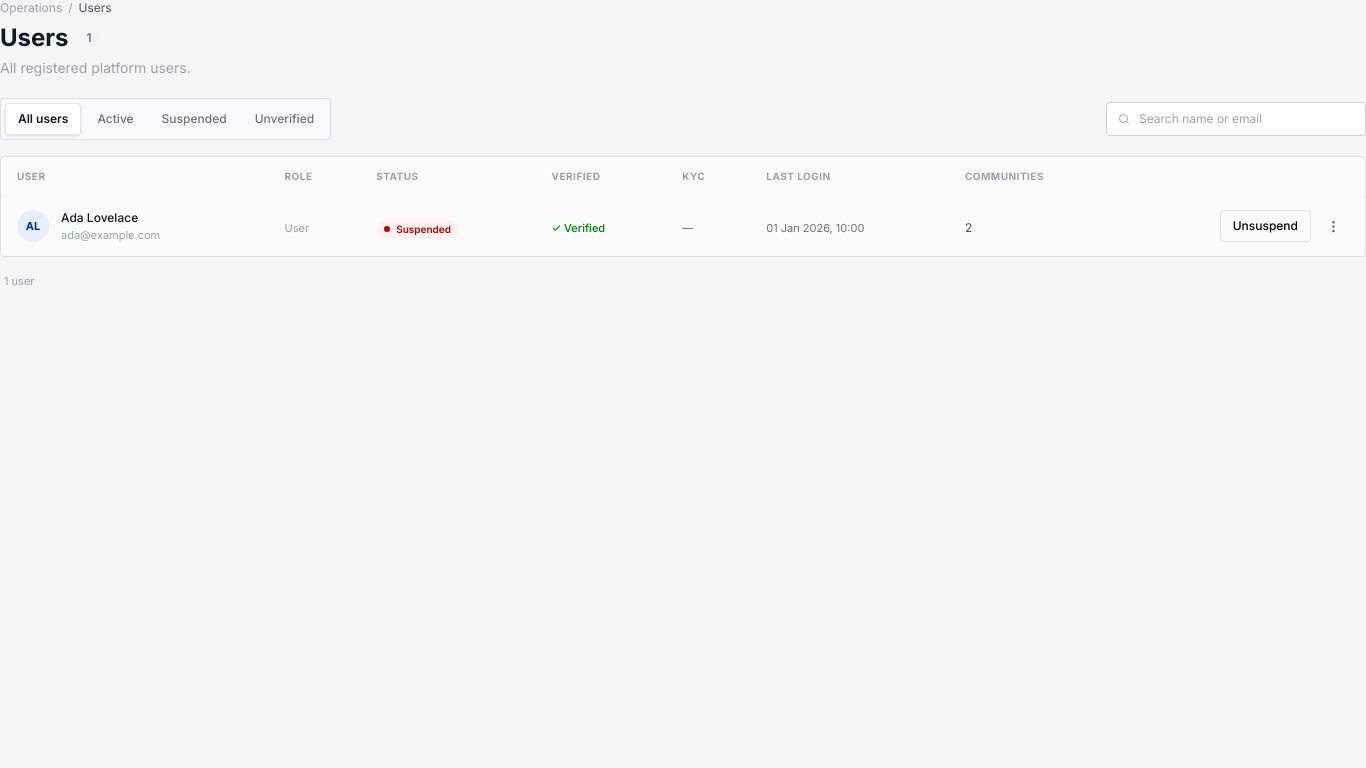
Test case: UsersSection — unsuspend / delete / anonymize › unsuspends a suspended user and closes the confirm modal
The image size is (1366, 768).
Step 1. Click the button "Unsuspend" → (1265, 226), box [1220,210,1311,242]
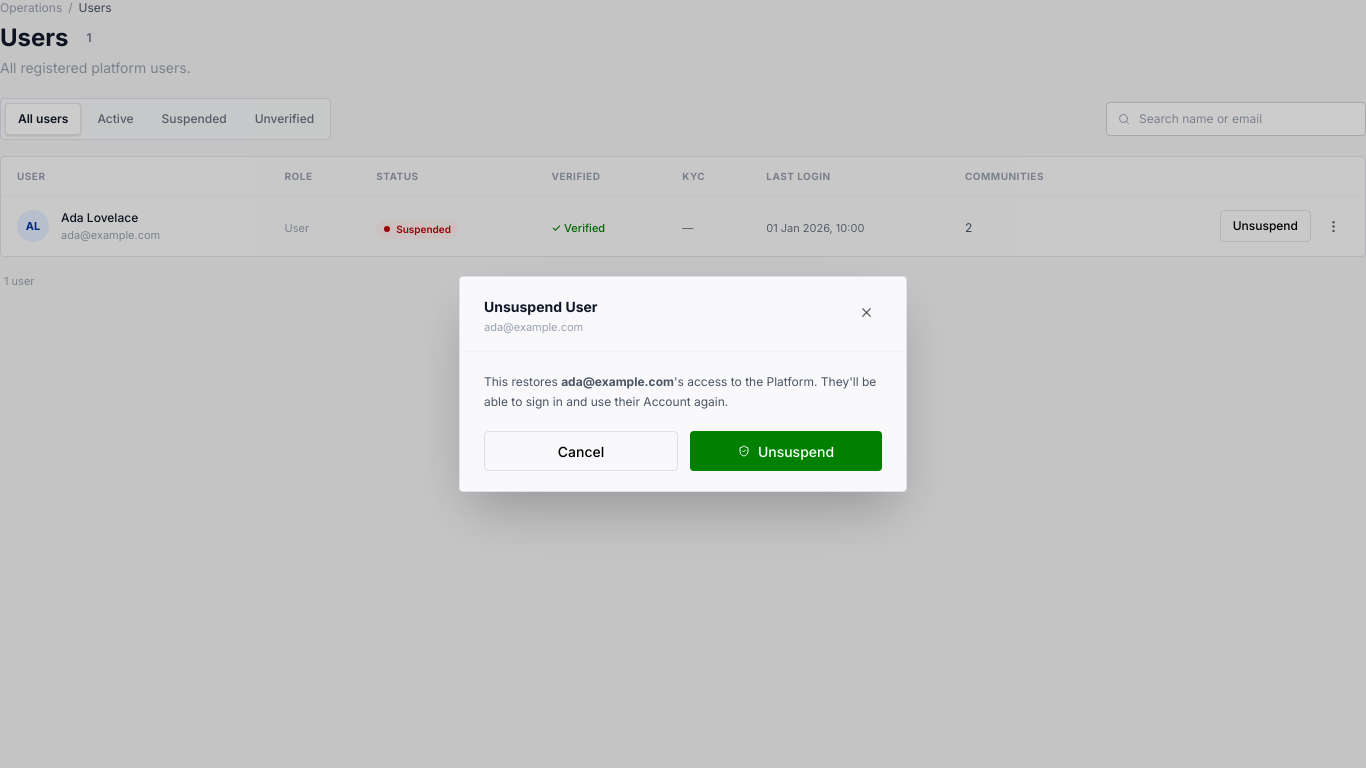
Result: the heading "Unsuspend User" is shown at [484,297,598,317]
Step 2. Click the button "Unsuspend" → (786, 451), box [690,431,882,471]
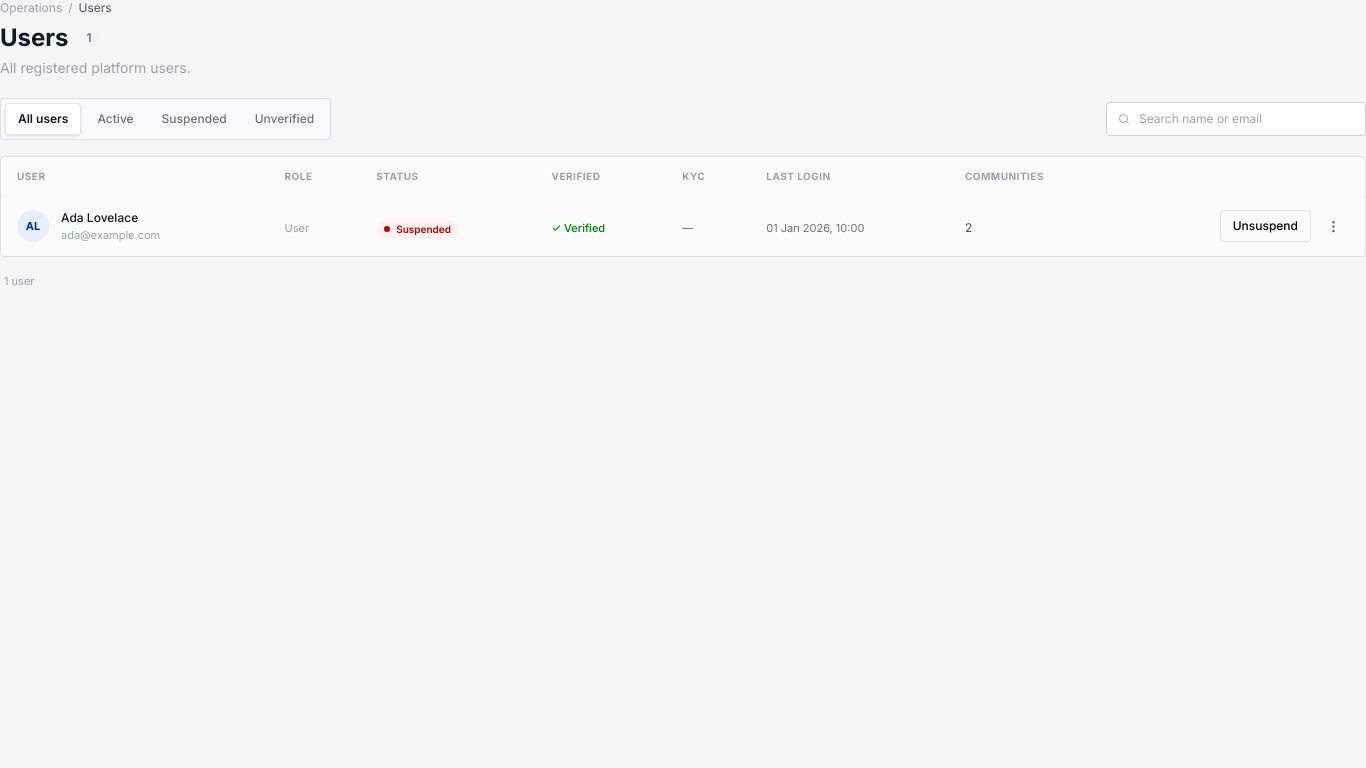
Result: the heading "Unsuspend User" is gone
